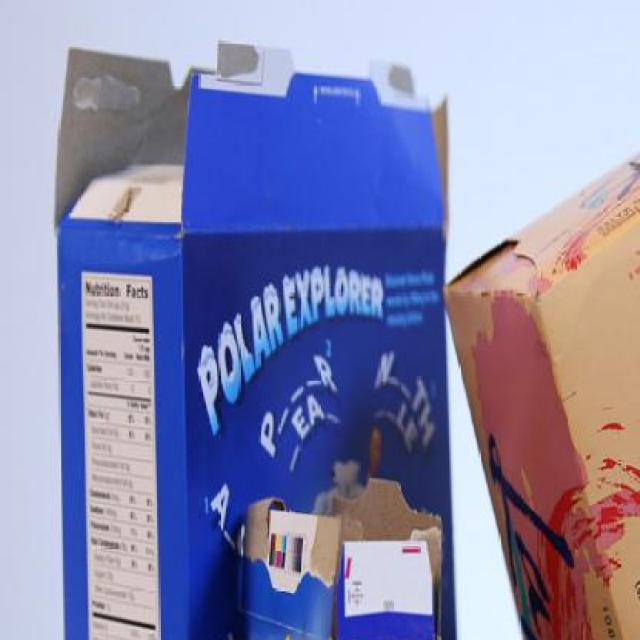box: (52, 19, 463, 640), (437, 136, 638, 640)
